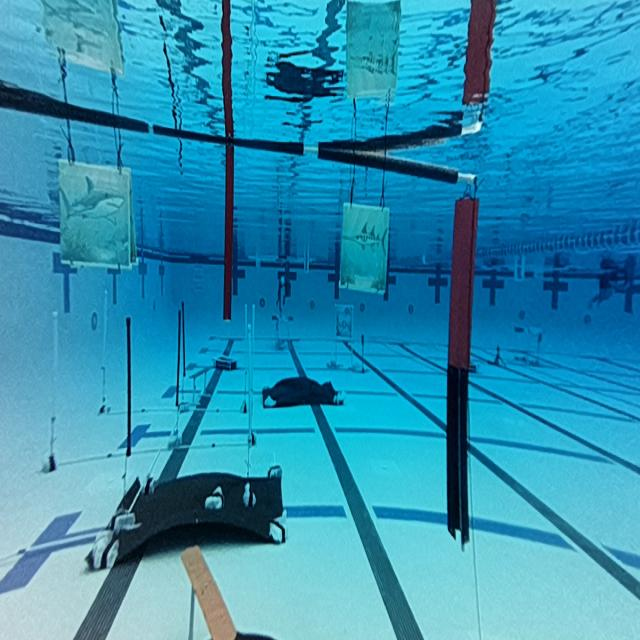pointed_nose: (341, 202, 394, 296)
round_nose: (55, 154, 142, 280)
